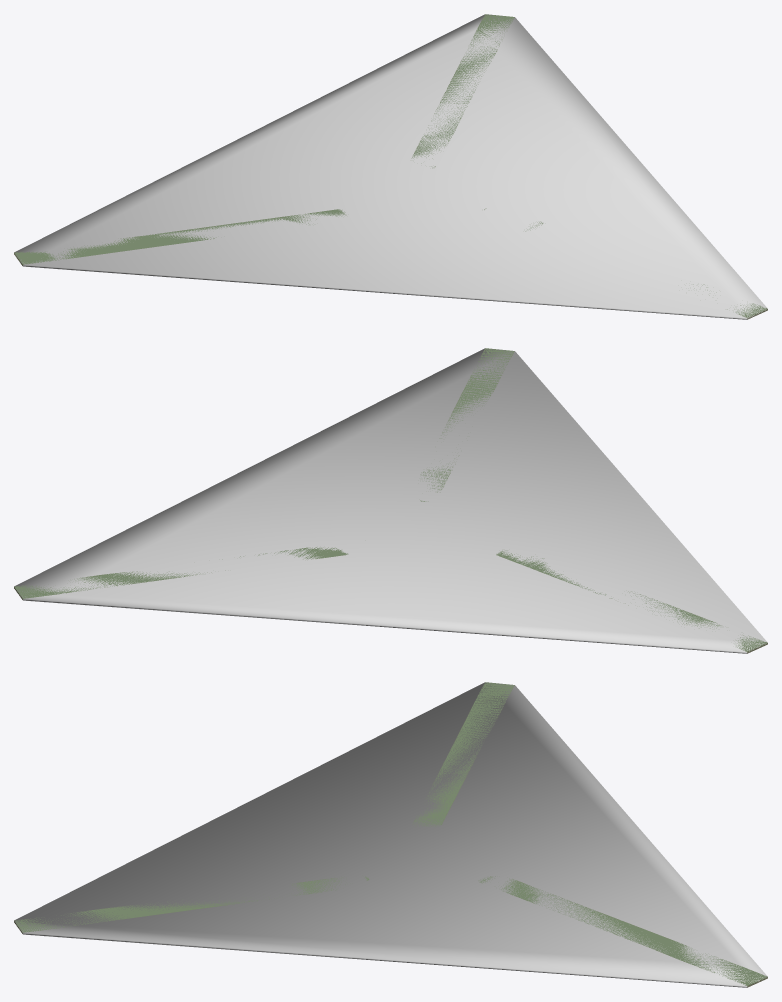
3 renders of one model, top to bottom at view 1: azimuth 30°, elevation 25°; view 2: azimuth 150°, elevation 25°; view 3: azimuth 270°, elevation 25°, orthographic.
Parts seen in each view (by area): view 1: rotor_kestrel_main_01_col, rotor_kestrel_main_01; view 2: rotor_kestrel_main_01_col, rotor_kestrel_main_01; view 3: rotor_kestrel_main_01_col, rotor_kestrel_main_01.
Boxes of the visible parts, x1,y1,x2,y2 form: rotor_kestrel_main_01_col: (14,14,767,319); rotor_kestrel_main_01: (14,14,767,319); rotor_kestrel_main_01_col: (14,348,767,653); rotor_kestrel_main_01: (14,348,767,653); rotor_kestrel_main_01_col: (14,682,767,987); rotor_kestrel_main_01: (14,682,767,987).
Bounding box in the file's own units: 7.83 × 0.0204 × 8.2.
Materials: 1 (1 with a texture image).
